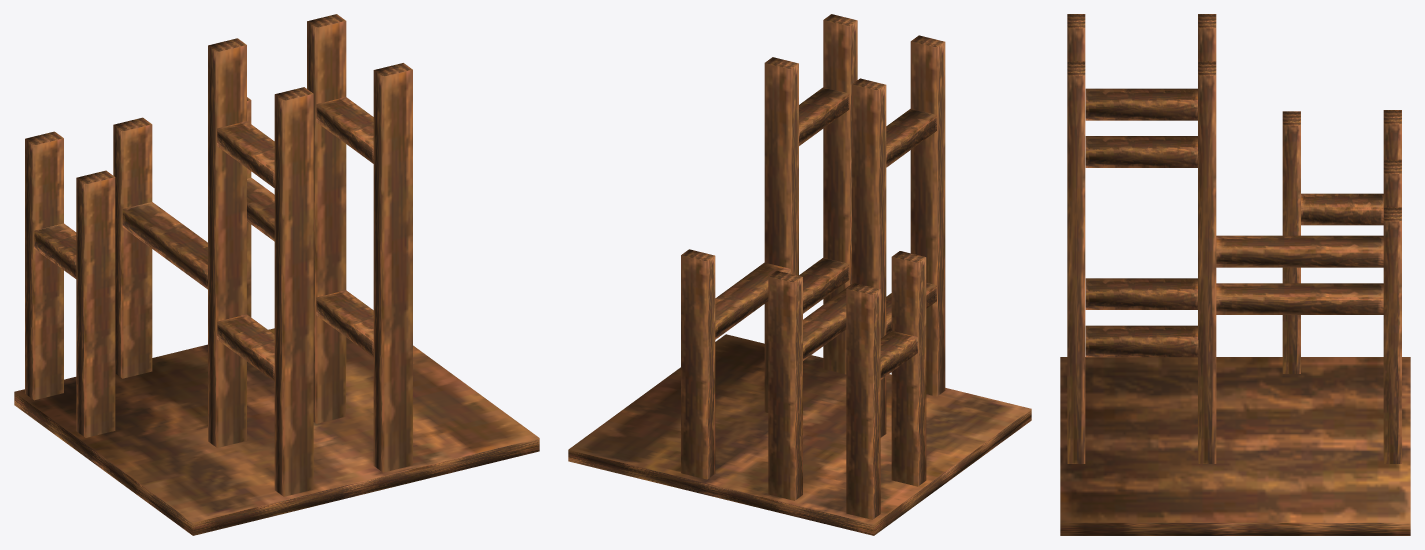
File: INST_SWORDLIGHT_PLATA.fbx
3 renders of one model, left to right at view 1: azimuth 30°, elevation 25°; view 2: azimuth 150°, elevation 25°; view 3: azimuth 270°, elevation 25°, orthographic. The views are drawn at different scales.
Visible parts, largest first — view 1: INST_SWORDLIGHT_PLATA; view 2: INST_SWORDLIGHT_PLATA; view 3: INST_SWORDLIGHT_PLATA.
Boxes of the visible parts, x1,y1,x2,y2 form: INST_SWORDLIGHT_PLATA: (14, 14, 539, 535); INST_SWORDLIGHT_PLATA: (568, 14, 1031, 535); INST_SWORDLIGHT_PLATA: (1060, 14, 1410, 535).
Size of the model in its own units: 25069 by 28286 by 22392.
1 material, 1 textured.
